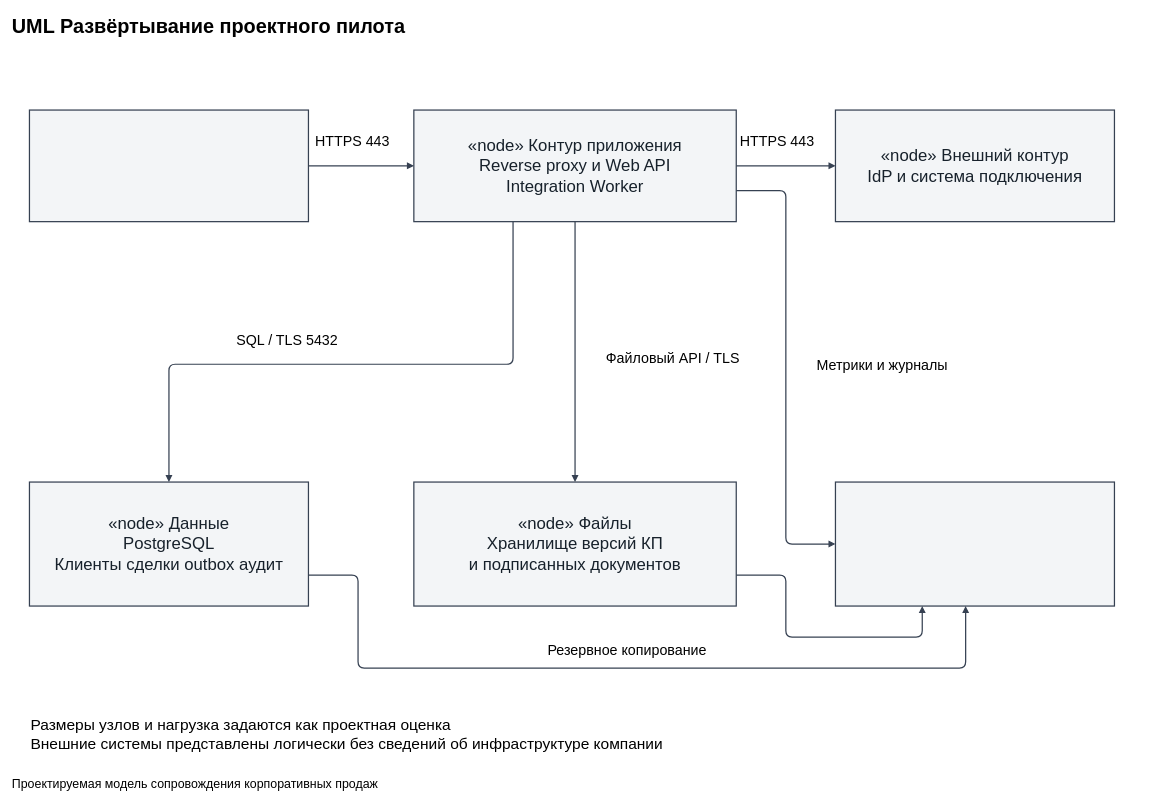
Image size: 1149x802. Some labels were removed from this diagram. Each missing label, with the centre of its shape:
«device» Рабочая станция Браузер Пользователь ИС: pixel 169 165
«node» Эксплуатация Мониторинг Резервные копии: pixel 975 543
